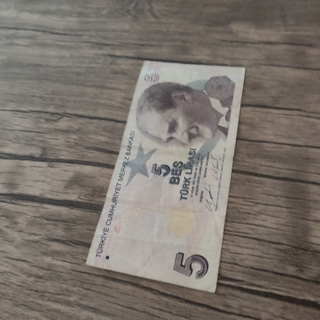5TLFront: (85, 61, 246, 293)
